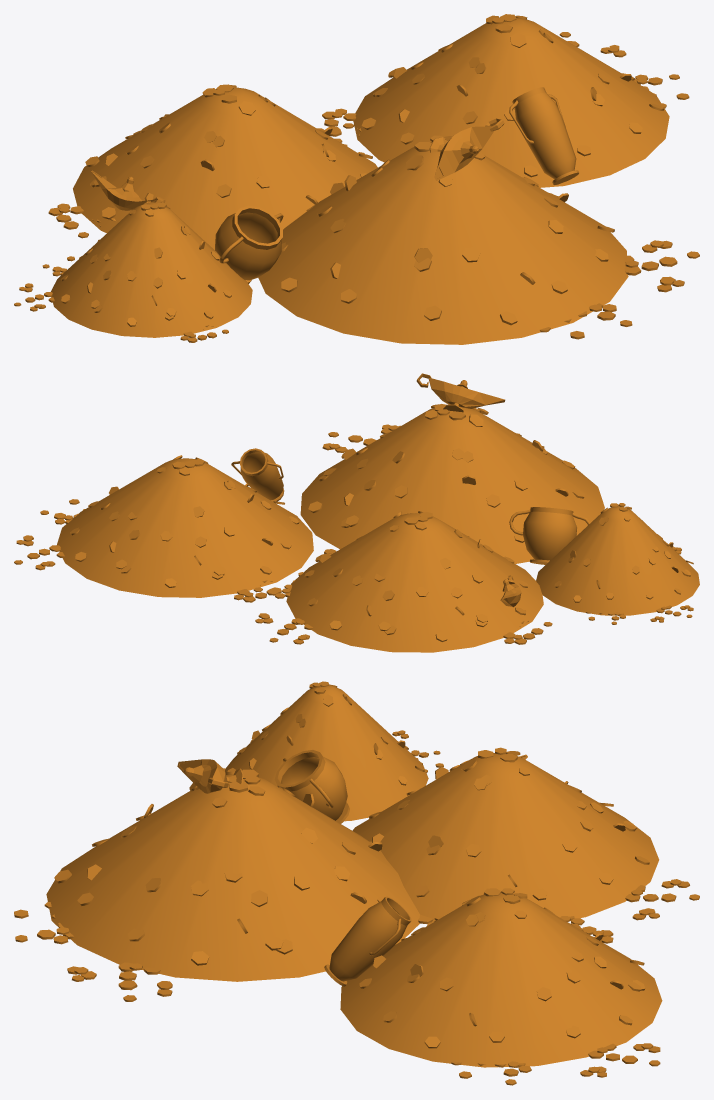
Rendered from SM_pile_treasury.fbx.
3 views of the same model, one above another, from view 1: azimuth 30°, elevation 25°; view 2: azimuth 150°, elevation 25°; view 3: azimuth 270°, elevation 25° (orthographic). The views are drawn at different scales.
Parts seen in each view (by area): view 1: Cylinder014; view 2: Cylinder014; view 3: Cylinder014.
Part boxes in pixels (x1=…): Cylinder014: x1=14, y1=14, x2=699, y2=344; Cylinder014: x1=14, y1=373, x2=699, y2=652; Cylinder014: x1=14, y1=681, x2=699, y2=1085.
Size of the model in its own units: 197 by 157 by 38.74.
